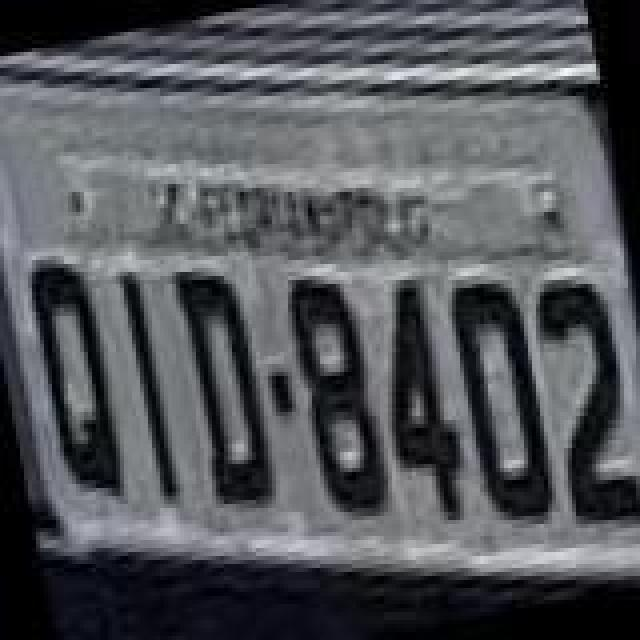1: (114, 262, 190, 506)
2: (524, 264, 640, 536)
4: (356, 270, 476, 530)
8: (278, 262, 394, 522)
D: (166, 260, 282, 516)
O: (442, 268, 566, 532)
Q: (22, 244, 138, 508)
